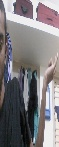hand: (43, 51, 59, 84)
